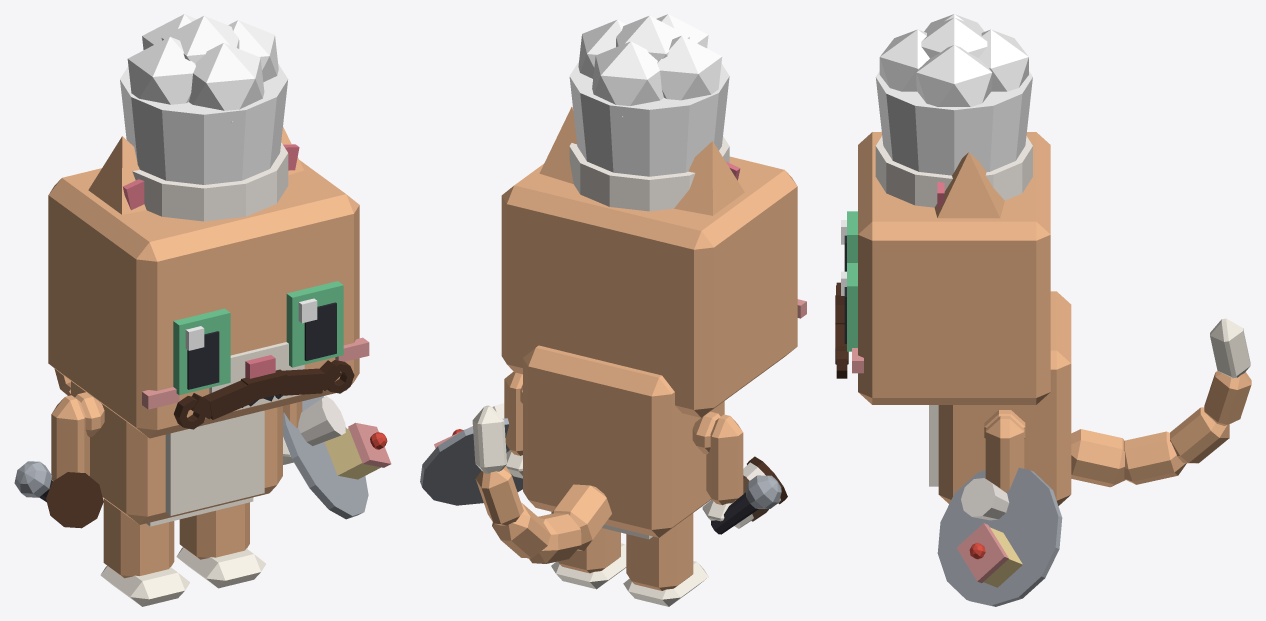
The model's file is CatCafe_Cat_Chonk_Work.glb.
3 views of the same model, side by side, from view 1: azimuth 30°, elevation 25°; view 2: azimuth 150°, elevation 25°; view 3: azimuth 270°, elevation 25° (orthographic). The views are drawn at different scales.
Parts seen in each view (by area): view 1: CatCafe_Cat_Chonk_Work_Head, CatCafe_Cat_Chonk_Work_Prop, CatCafe_Cat_Chonk_Work_Body, CatCafe_Cat_Chonk_Work_Held_Waiter, CatCafe_Cat_Chonk_Work_LegB2, CatCafe_Cat_Chonk_Work_LegB1, CatCafe_Cat_Chonk_Work_Prop2, CatCafe_Cat_Chonk_Work_Eye2, CatCafe_Cat_Chonk_Work_Eye1, CatCafe_Cat_Chonk_Work_LegF2, CatCafe_Cat_Chonk_Work_EarR, CatCafe_Cat_Chonk_Work_Held_Barista (+2 smaller); view 2: CatCafe_Cat_Chonk_Work_Head, CatCafe_Cat_Chonk_Work_Body, CatCafe_Cat_Chonk_Work_Prop, CatCafe_Cat_Chonk_Work_Tail, CatCafe_Cat_Chonk_Work_LegB2, CatCafe_Cat_Chonk_Work_Held_Waiter, CatCafe_Cat_Chonk_Work_LegF2, CatCafe_Cat_Chonk_Work_EarR, CatCafe_Cat_Chonk_Work_LegB1, CatCafe_Cat_Chonk_Work_Held_Entertainer, CatCafe_Cat_Chonk_Work_LegF1, CatCafe_Cat_Chonk_Work_EarL (+1 smaller); view 3: CatCafe_Cat_Chonk_Work_Head, CatCafe_Cat_Chonk_Work_Prop, CatCafe_Cat_Chonk_Work_Held_Waiter, CatCafe_Cat_Chonk_Work_Body, CatCafe_Cat_Chonk_Work_Tail, CatCafe_Cat_Chonk_Work_EarL, CatCafe_Cat_Chonk_Work_LegF1, CatCafe_Cat_Chonk_Work_Eye1, CatCafe_Cat_Chonk_Work_Prop2, CatCafe_Cat_Chonk_Work_Eye2.
Boxes of the visible parts, x1=… form: CatCafe_Cat_Chonk_Work_Head: x1=48, y1=160, x2=369, y2=438; CatCafe_Cat_Chonk_Work_Prop: x1=120, y1=14, x2=288, y2=221; CatCafe_Cat_Chonk_Work_Body: x1=71, y1=381, x2=282, y2=526; CatCafe_Cat_Chonk_Work_Held_Waiter: x1=283, y1=396, x2=391, y2=519; CatCafe_Cat_Chonk_Work_LegB2: x1=100, y1=499, x2=189, y2=606; CatCafe_Cat_Chonk_Work_LegB1: x1=176, y1=502, x2=265, y2=588; CatCafe_Cat_Chonk_Work_Prop2: x1=174, y1=360, x2=354, y2=429; CatCafe_Cat_Chonk_Work_Eye2: x1=173, y1=308, x2=230, y2=395; CatCafe_Cat_Chonk_Work_Eye1: x1=286, y1=281, x2=343, y2=367; CatCafe_Cat_Chonk_Work_LegF2: x1=51, y1=395, x2=89, y2=480; CatCafe_Cat_Chonk_Work_EarR: x1=88, y1=136, x2=146, y2=214; CatCafe_Cat_Chonk_Work_Held_Barista: x1=46, y1=472, x2=103, y2=528; CatCafe_Cat_Chonk_Work_Head: x1=501, y1=156, x2=806, y2=417; CatCafe_Cat_Chonk_Work_Body: x1=520, y1=345, x2=724, y2=539; CatCafe_Cat_Chonk_Work_Prop: x1=569, y1=14, x2=729, y2=211; CatCafe_Cat_Chonk_Work_Tail: x1=472, y1=405, x2=611, y2=563; CatCafe_Cat_Chonk_Work_LegB2: x1=623, y1=513, x2=708, y2=606; CatCafe_Cat_Chonk_Work_Held_Waiter: x1=420, y1=403, x2=522, y2=505; CatCafe_Cat_Chonk_Work_LegF2: x1=702, y1=414, x2=743, y2=521; CatCafe_Cat_Chonk_Work_EarR: x1=674, y1=141, x2=744, y2=215; CatCafe_Cat_Chonk_Work_LegB1: x1=551, y1=528, x2=626, y2=589; CatCafe_Cat_Chonk_Work_Held_Entertainer: x1=711, y1=475, x2=781, y2=534; CatCafe_Cat_Chonk_Work_LegF1: x1=504, y1=372, x2=522, y2=478; CatCafe_Cat_Chonk_Work_EarL: x1=539, y1=107, x2=576, y2=183; CatCafe_Cat_Chonk_Work_Head: x1=852, y1=132, x2=1050, y2=404; CatCafe_Cat_Chonk_Work_Prop: x1=875, y1=14, x2=1032, y2=207; CatCafe_Cat_Chonk_Work_Held_Waiter: x1=937, y1=467, x2=1062, y2=606; CatCafe_Cat_Chonk_Work_Body: x1=929, y1=291, x2=1071, y2=505; CatCafe_Cat_Chonk_Work_Tail: x1=1071, y1=318, x2=1251, y2=487; CatCafe_Cat_Chonk_Work_EarL: x1=934, y1=152, x2=1004, y2=218; CatCafe_Cat_Chonk_Work_LegF1: x1=985, y1=416, x2=1024, y2=492; CatCafe_Cat_Chonk_Work_Eye1: x1=841, y1=263, x2=857, y2=351; CatCafe_Cat_Chonk_Work_Prop2: x1=835, y1=282, x2=848, y2=378; CatCafe_Cat_Chonk_Work_Eye2: x1=841, y1=211, x2=857, y2=271.
Bounding box in the file's own units: 1.92 × 2.95 × 2.05.
1 material, 1 textured.
